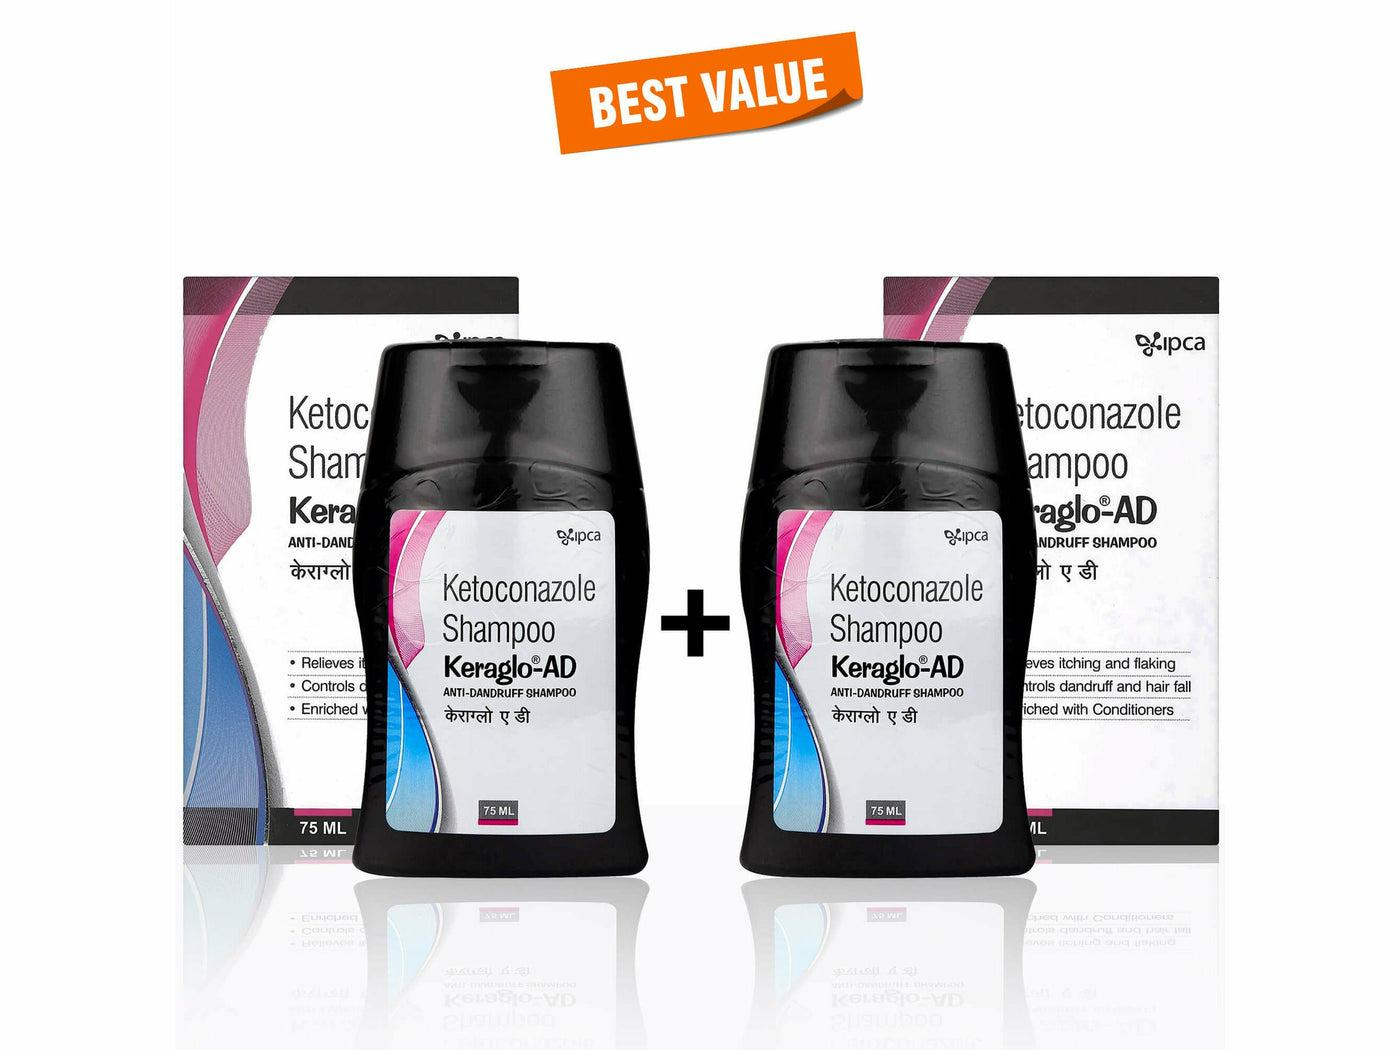KeraGlo: (348, 337, 655, 886), (739, 346, 1041, 885)
